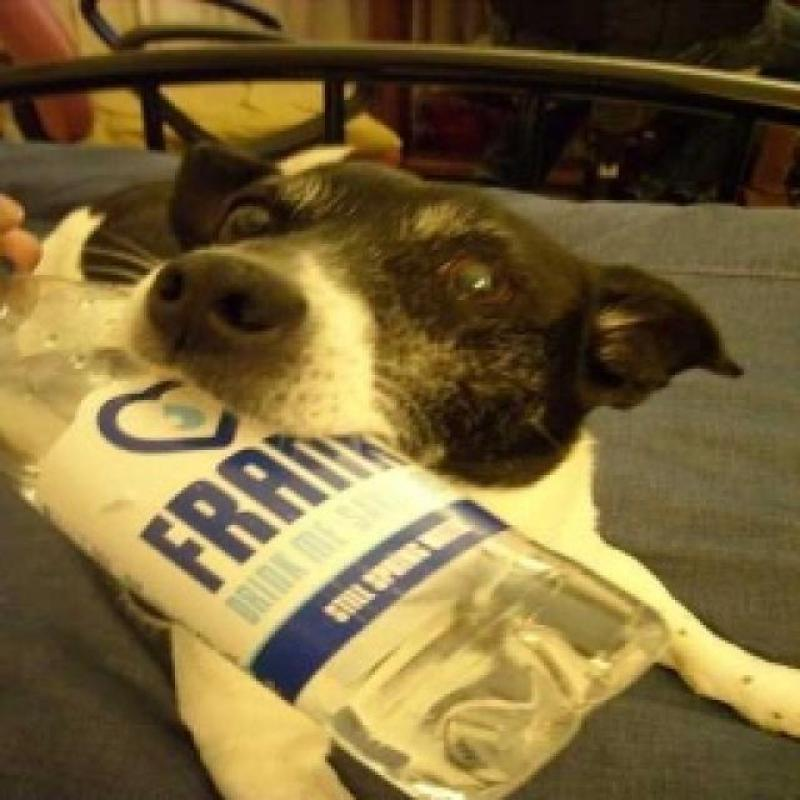botella: (0, 275, 669, 800)
